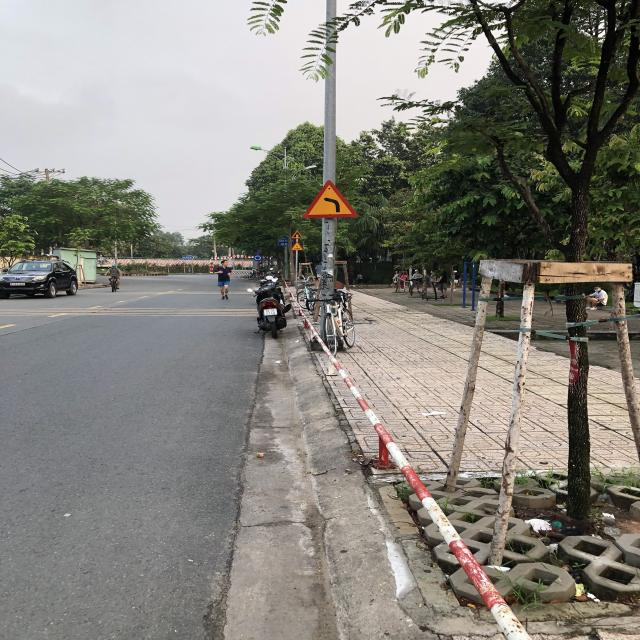Bien bao cho ngoat nguy hiem: (301, 178, 358, 221)
